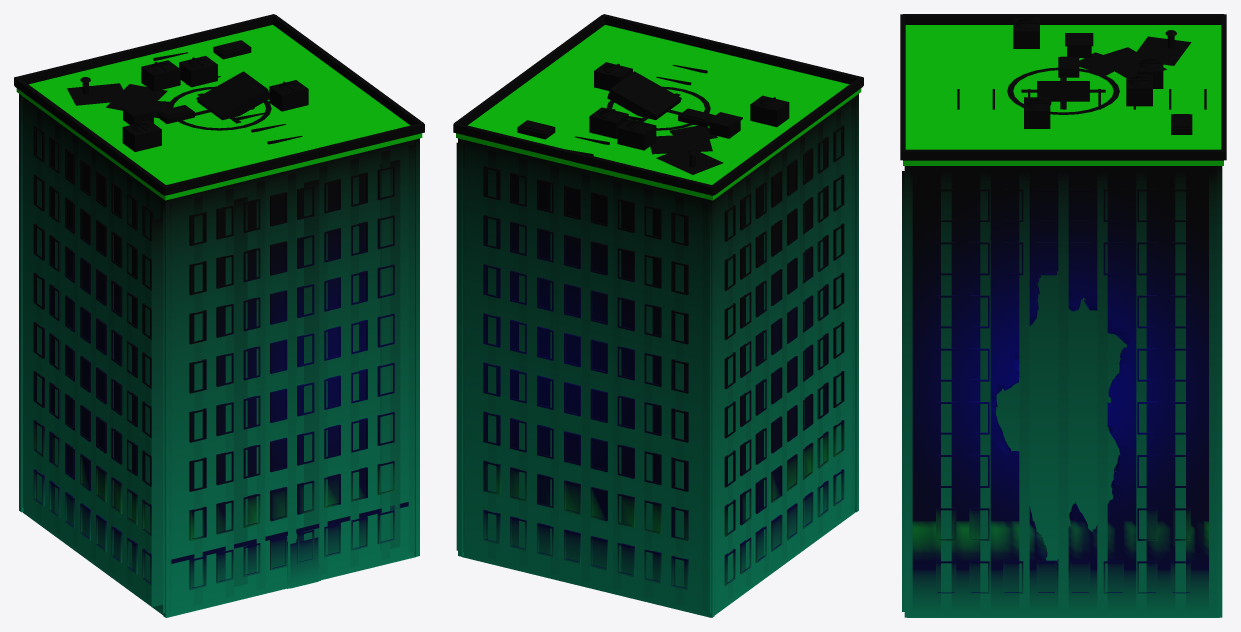
The model's file is city8storyc_damaged.glb.
The picture shows the model from 3 angles, left to right: view 1: azimuth 30°, elevation 25°; view 2: azimuth 150°, elevation 25°; view 3: azimuth 270°, elevation 25°; orthographic projection. The views are drawn at different scales.
Parts seen in each view (by area): view 1: lod0; view 2: lod0; view 3: lod0.
Part boxes in pixels (x1,y1,x2,y2): lod0: [14, 14, 424, 617]; lod0: [453, 14, 863, 617]; lod0: [900, 14, 1226, 617].
Size of what is drawn, in the model's own units: 19.2 by 30.15 by 18.5.
